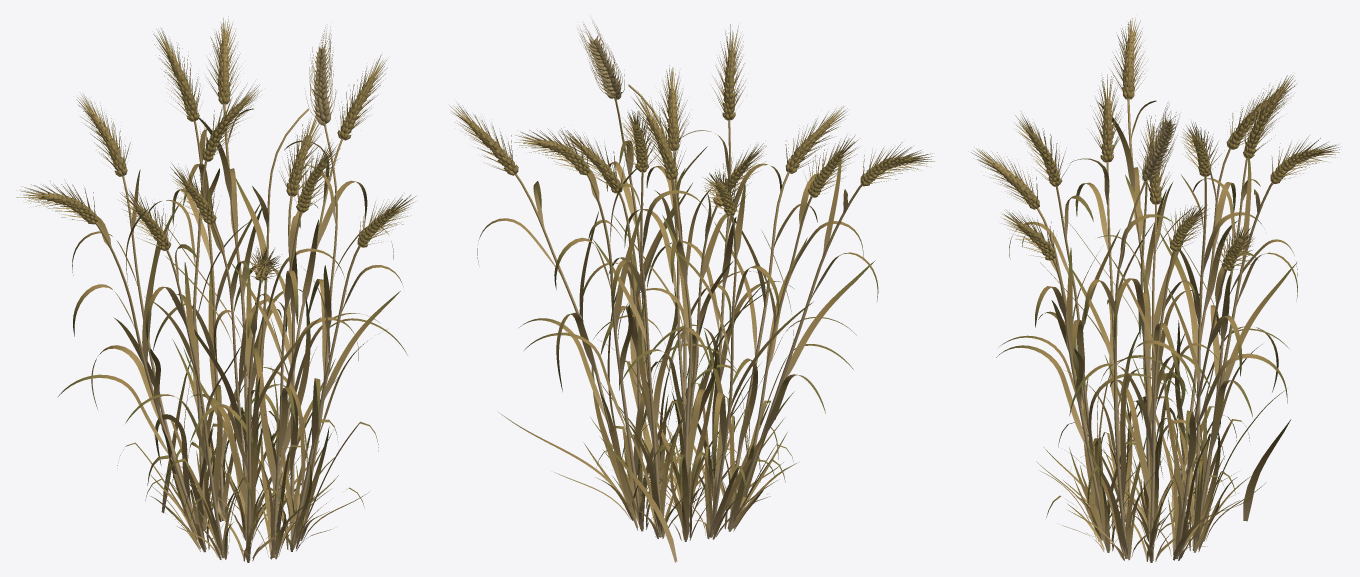
Rendered from wheat-plant003.fbx.
3 views of the same model, side by side, from view 1: azimuth 30°, elevation 25°; view 2: azimuth 150°, elevation 25°; view 3: azimuth 270°, elevation 25° (orthographic).
Visible parts, largest first — view 1: Cylinder005, wheat__0.597, wheat__0.1169, wheat__0.1206, wheat__0.1214, wheat__0.931, wheat__0.063, wheat__0.1046, wheat__0.611, wheat__0.328, wheat__0.739, wheat__0.179 (+29 smaller); view 2: Cylinder005, wheat__0.611, wheat__0.931, wheat__0.1206, wheat__0.1169, wheat__0.505, wheat__0.063, wheat__0.739, wheat__0.181, wheat__0.1046, wheat__0.539, wheat__0.328 (+19 smaller); view 3: wheat__0.597, Cylinder005, wheat__0.063, wheat__0.505, wheat__0.328, wheat__0.1169, wheat__0.611, wheat__0.1182, wheat__0.739, wheat__0.031, wheat__0.181, wheat__0.1214 (+32 smaller).
Part boxes in pixels (x1=…): Cylinder005: x1=304, y1=24, x2=337, y2=127; wheat__0.597: x1=153, y1=29, x2=201, y2=121; wheat__0.1169: x1=206, y1=16, x2=240, y2=104; wheat__0.1206: x1=337, y1=54, x2=387, y2=140; wheat__0.1214: x1=76, y1=94, x2=130, y2=176; wheat__0.931: x1=200, y1=83, x2=260, y2=161; wheat__0.063: x1=16, y1=179, x2=97, y2=224; wheat__0.1046: x1=279, y1=115, x2=321, y2=196; wheat__0.611: x1=289, y1=142, x2=340, y2=213; wheat__0.328: x1=117, y1=189, x2=174, y2=250; wheat__0.739: x1=357, y1=193, x2=415, y2=247; wheat__0.179: x1=95, y1=222, x2=206, y2=549; Cylinder005: x1=578, y1=20, x2=624, y2=101; wheat__0.611: x1=712, y1=24, x2=745, y2=120; wheat__0.931: x1=631, y1=91, x2=685, y2=180; wheat__0.1206: x1=450, y1=103, x2=518, y2=175; wheat__0.1169: x1=514, y1=128, x2=589, y2=175; wheat__0.505: x1=785, y1=106, x2=847, y2=173; wheat__0.063: x1=860, y1=142, x2=934, y2=186; wheat__0.739: x1=657, y1=65, x2=689, y2=150; wheat__0.181: x1=575, y1=158, x2=643, y2=528; wheat__0.1046: x1=561, y1=127, x2=625, y2=193; wheat__0.539: x1=640, y1=172, x2=662, y2=537; wheat__0.328: x1=805, y1=134, x2=859, y2=197; wheat__0.597: x1=1242, y1=75, x2=1296, y2=158; Cylinder005: x1=1142, y1=103, x2=1180, y2=184; wheat__0.063: x1=1111, y1=17, x2=1146, y2=99; wheat__0.505: x1=971, y1=147, x2=1039, y2=209; wheat__0.328: x1=1090, y1=74, x2=1124, y2=162; wheat__0.1169: x1=1270, y1=135, x2=1339, y2=184; wheat__0.611: x1=1014, y1=114, x2=1070, y2=186; wheat__0.1182: x1=1114, y1=184, x2=1144, y2=558; wheat__0.739: x1=1002, y1=210, x2=1055, y2=260; wheat__0.031: x1=1149, y1=251, x2=1174, y2=560; wheat__0.181: x1=1192, y1=182, x2=1272, y2=550; wheat__0.1214: x1=1226, y1=79, x2=1294, y2=149.
Bounding box in the file's own units: 116 × 126 × 89.09.
2 materials, 2 textured.
